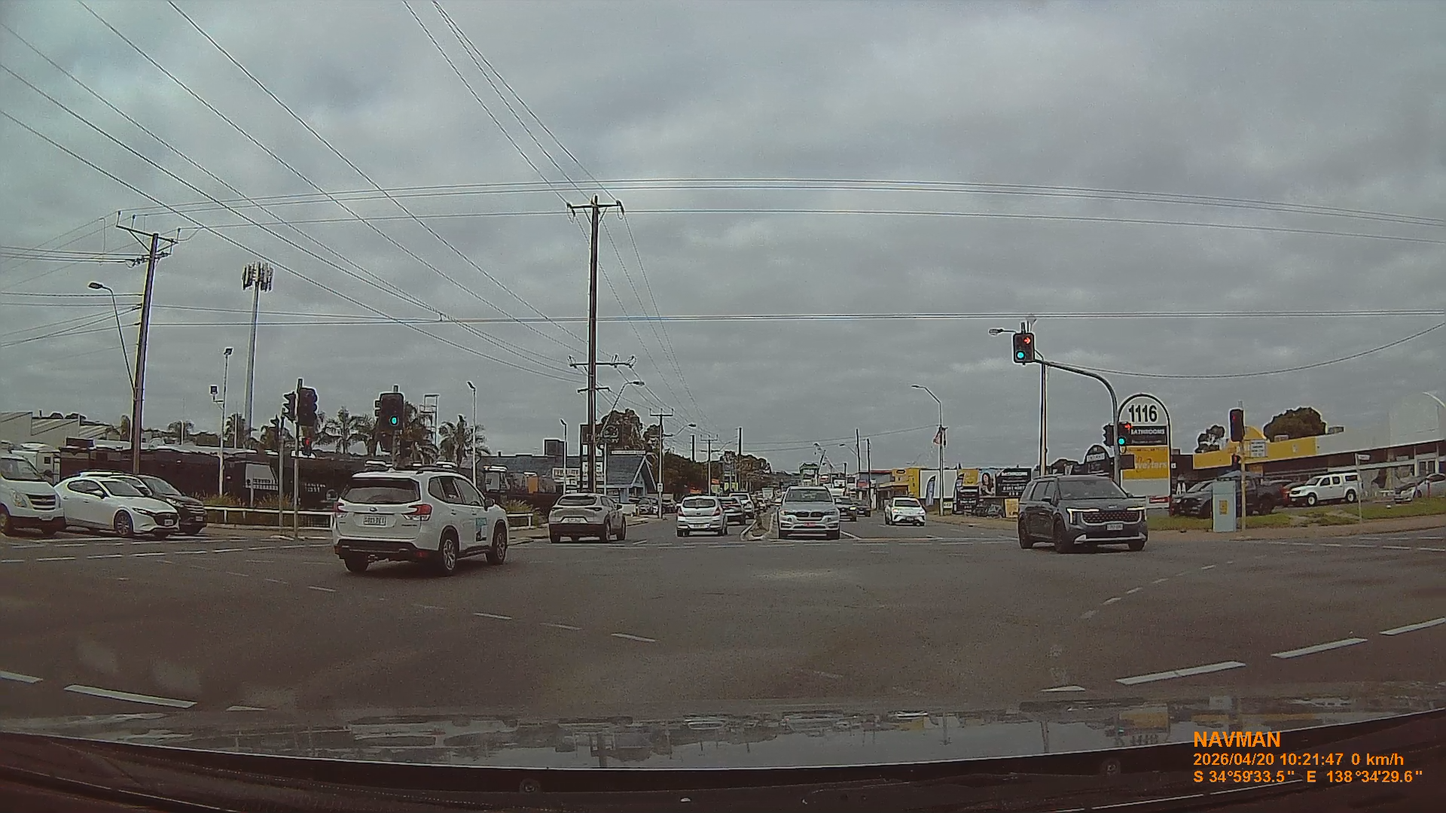fences: (62, 452, 340, 507)
